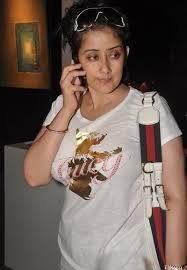Drunk: (77, 32, 124, 90)
